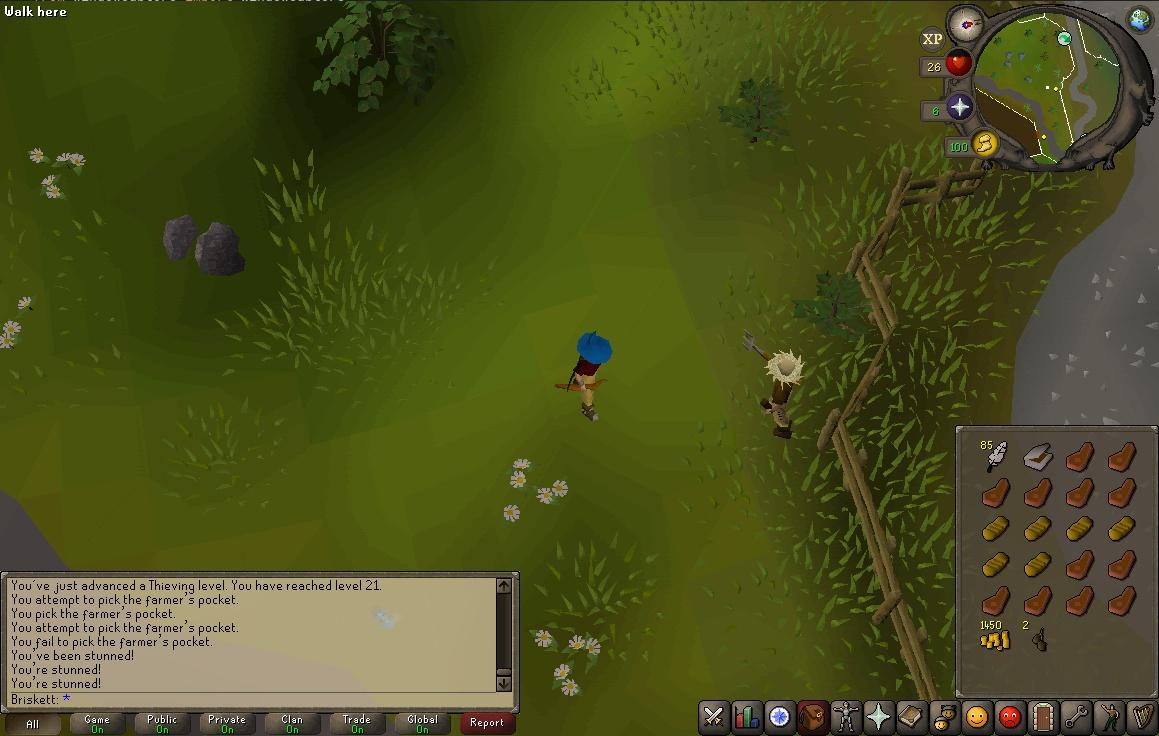Farmer: (741, 328, 805, 439)
